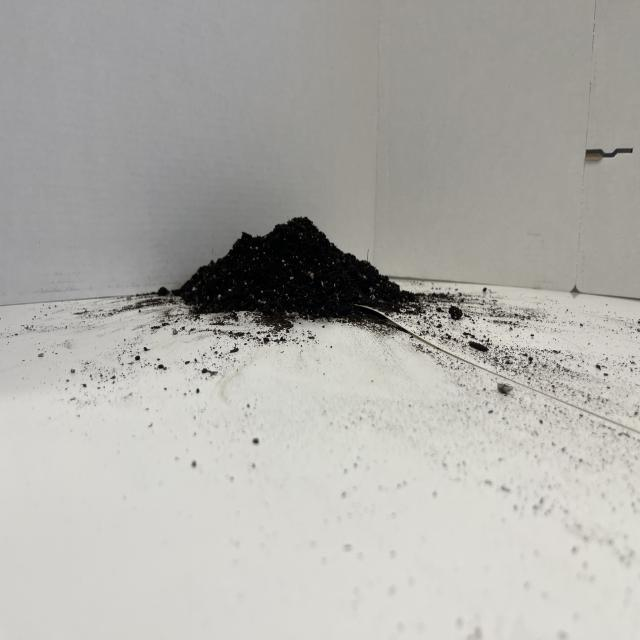soil: (172, 212, 418, 324)
